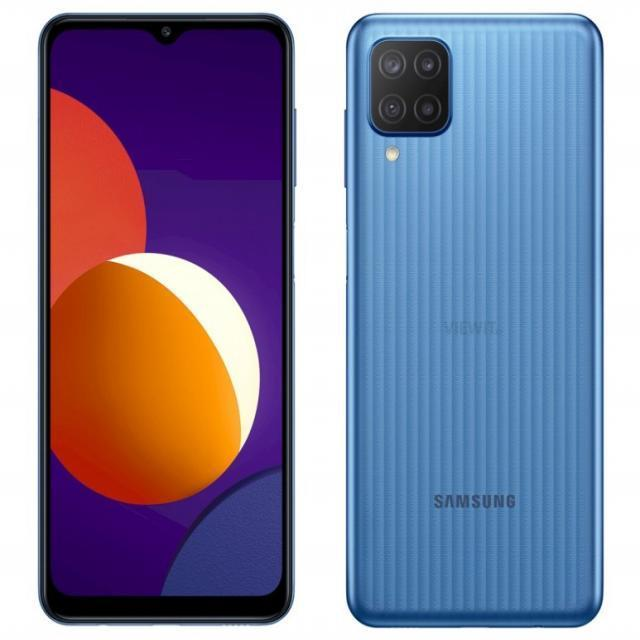phone: (344, 12, 604, 629)
